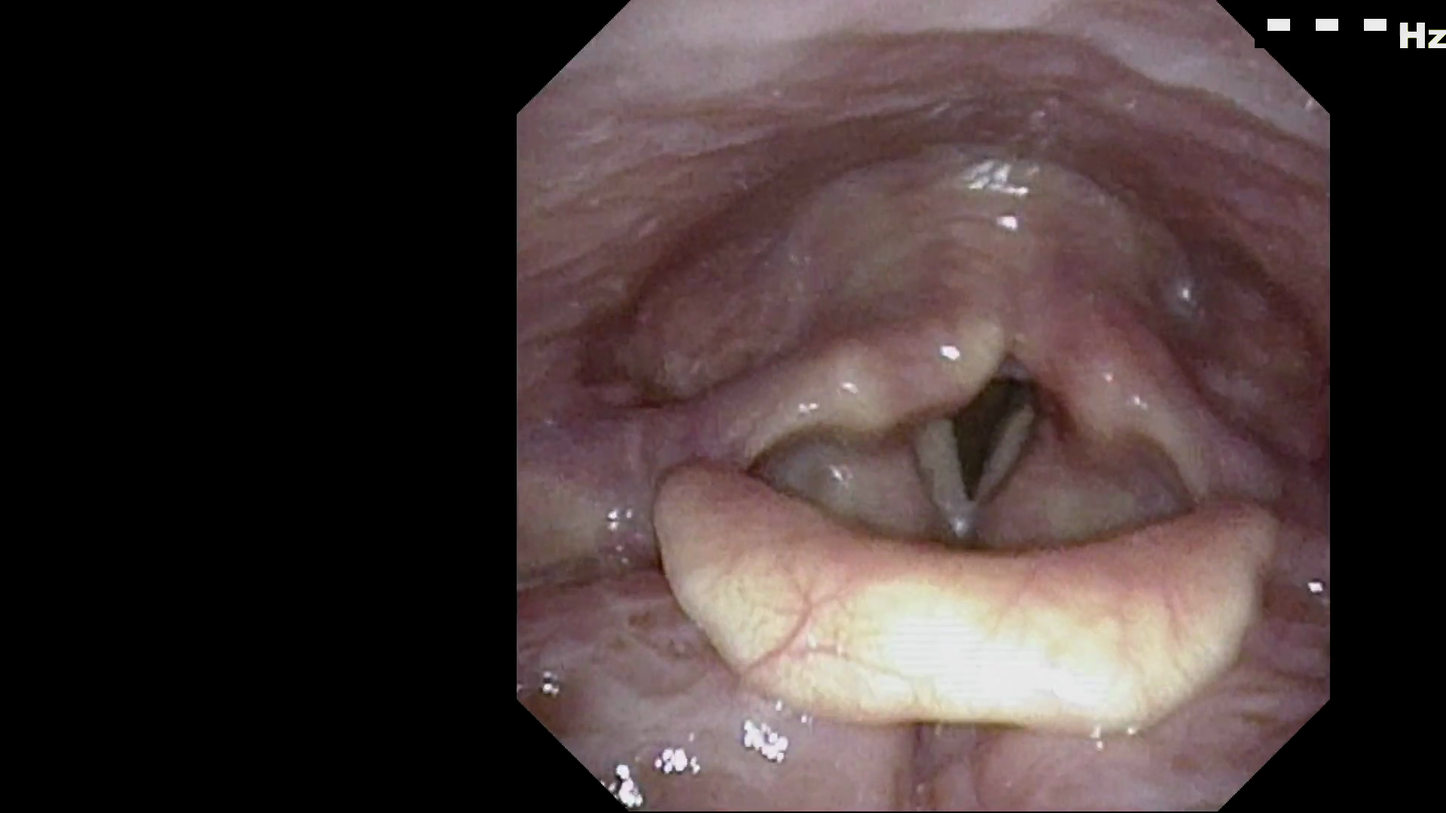epiglottis: (674, 455, 1272, 730)
trachea: (896, 353, 1062, 525)
